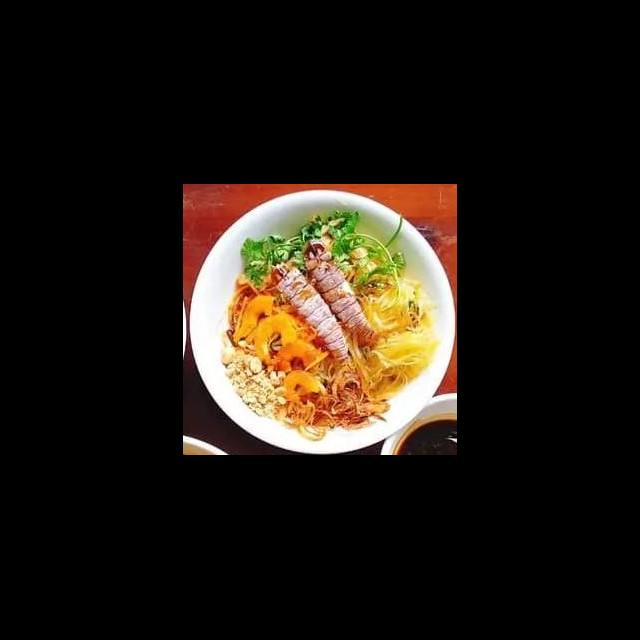tom: (251, 310, 302, 370), (272, 334, 323, 380)
tom tit: (270, 260, 352, 368), (298, 238, 378, 344)
